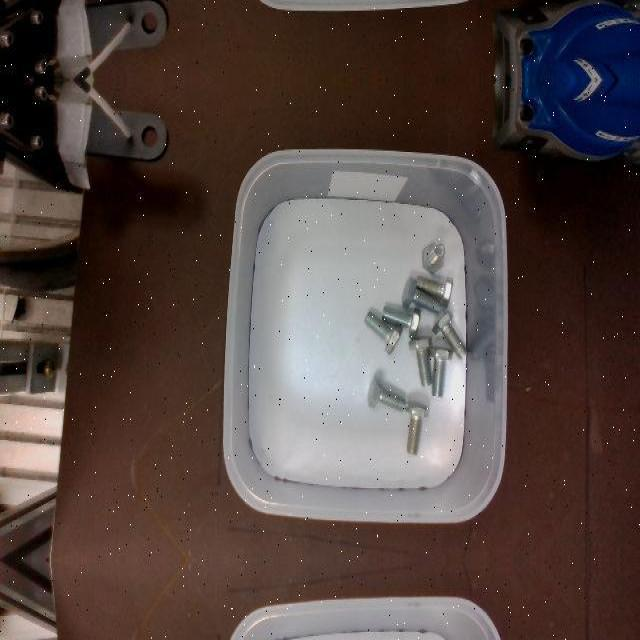screw: (431, 309, 467, 359), (364, 310, 403, 354), (402, 276, 440, 314), (367, 374, 405, 410), (428, 344, 452, 398), (406, 401, 429, 455), (382, 306, 420, 338), (408, 335, 432, 385), (415, 277, 453, 307), (422, 242, 444, 272)
